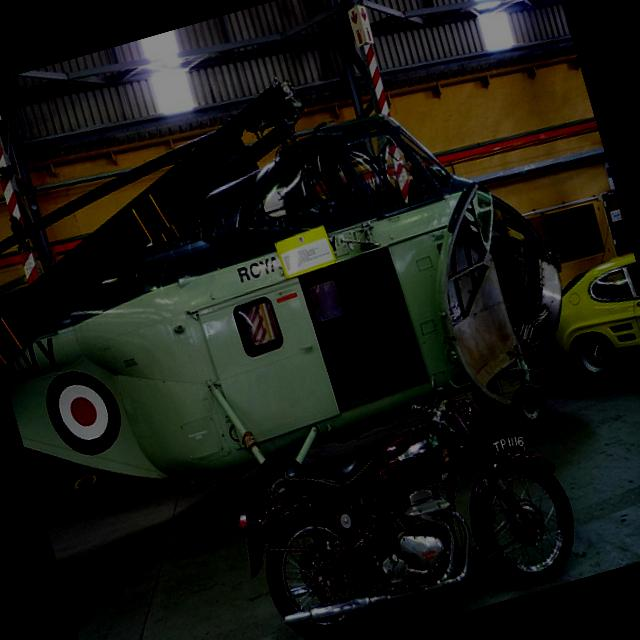Vehicle: (211, 346, 590, 640), (525, 254, 640, 398)
